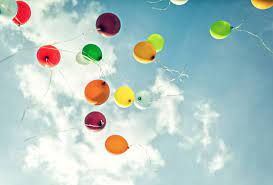Balloon: (84, 80, 109, 104), (96, 13, 121, 36), (37, 45, 61, 68), (134, 42, 156, 64), (83, 110, 106, 131), (105, 135, 129, 154), (208, 20, 232, 39), (114, 86, 134, 108), (134, 90, 152, 109), (82, 44, 102, 61)
